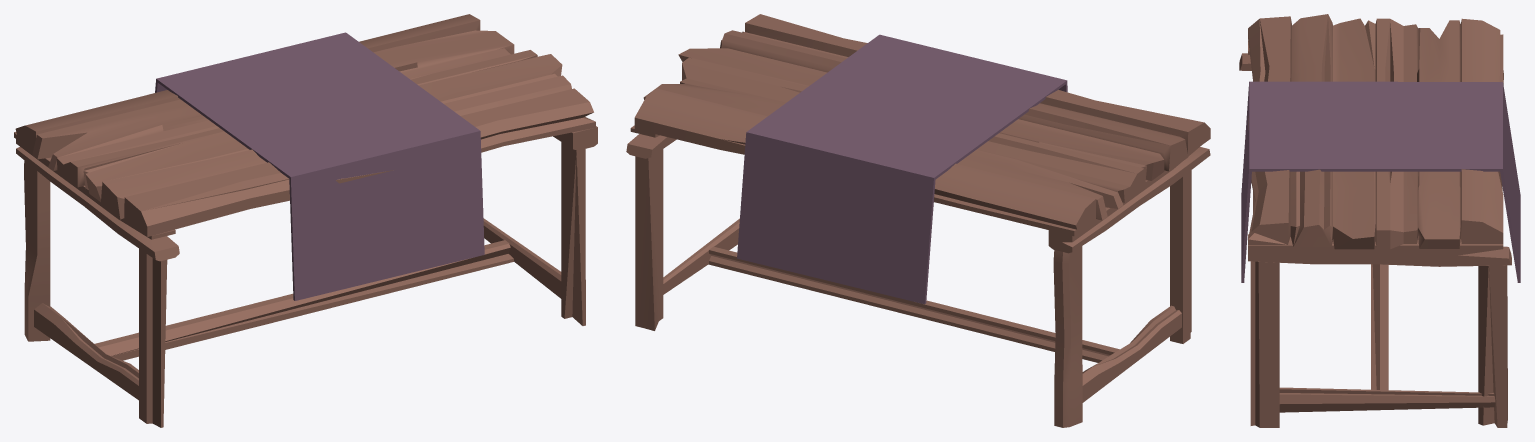
The model's file is SM_Wooden_Table_01.fbx.
3 views of the same model, side by side, from view 1: azimuth 30°, elevation 25°; view 2: azimuth 150°, elevation 25°; view 3: azimuth 270°, elevation 25° (orthographic). The views are drawn at different scales.
Parts seen in each view (by area): view 1: Wooden_Table_01; view 2: Wooden_Table_01; view 3: Wooden_Table_01.
Part boxes in pixels (box(x1,y1,x2,y2)): Wooden_Table_01: box(14, 14, 597, 427); Wooden_Table_01: box(626, 14, 1210, 427); Wooden_Table_01: box(1239, 14, 1520, 427).
Size of the model in its own units: 90.01 by 40.27 by 49.14.
